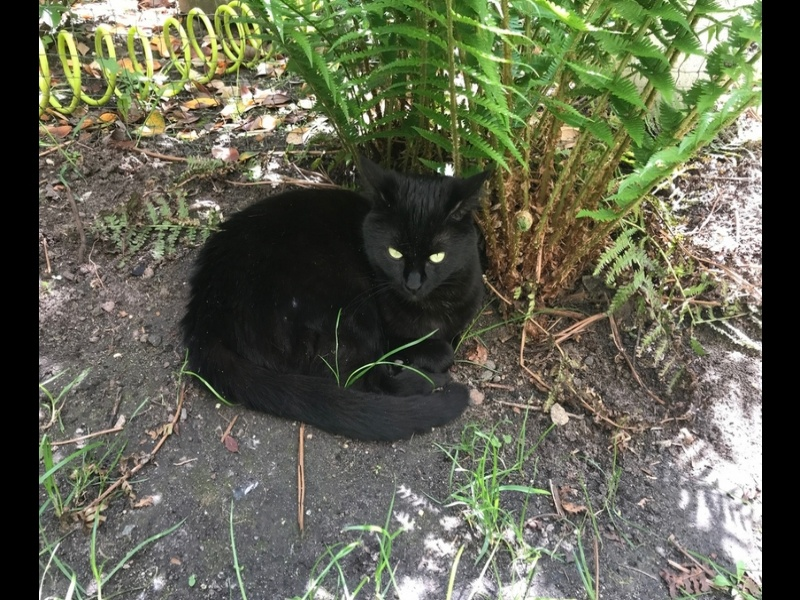cat: (179, 151, 495, 444)
